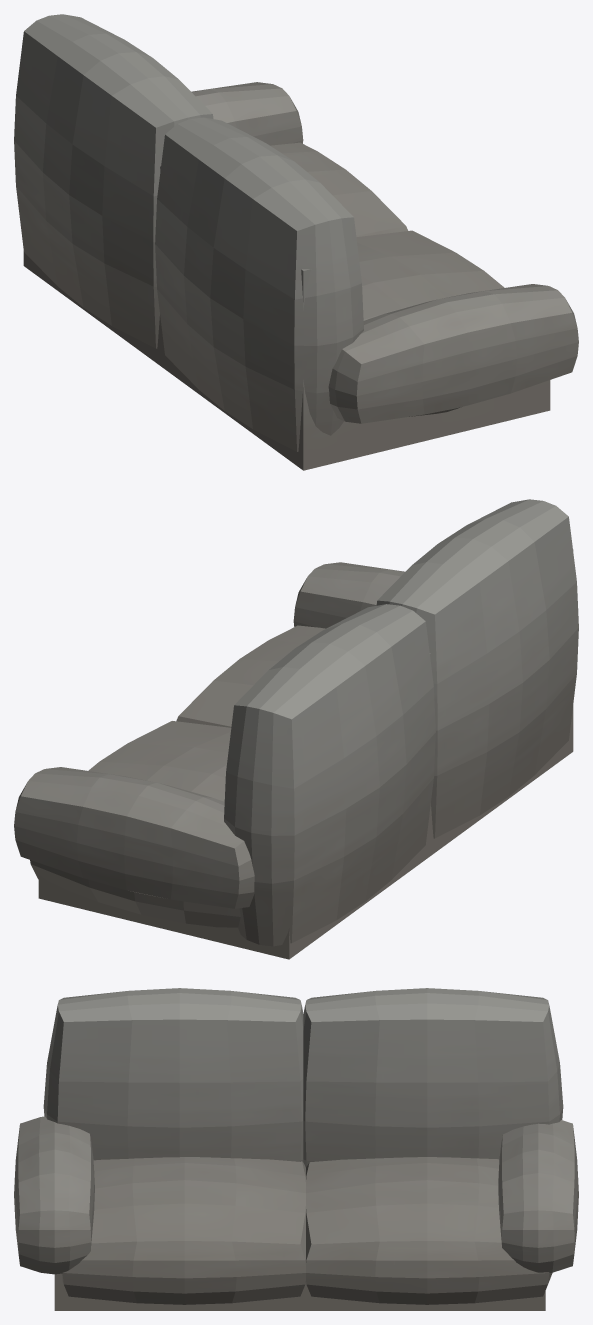
The model's file is CouchLong.glb.
The picture shows the model from 3 angles, top to bottom: view 1: azimuth 30°, elevation 25°; view 2: azimuth 150°, elevation 25°; view 3: azimuth 270°, elevation 25°; orthographic projection. The views are drawn at different scales.
Parts seen in each view (by area): view 1: Long Couch_Baked; view 2: Long Couch_Baked; view 3: Long Couch_Baked.
Part boxes in pixels (x1,y1,x2,y2): Long Couch_Baked: (14,14,578,470); Long Couch_Baked: (14,499,578,959); Long Couch_Baked: (14,988,578,1310).
Size of the model in its own units: 5.29 by 4.53 by 10.19.
1 material, 1 textured.
